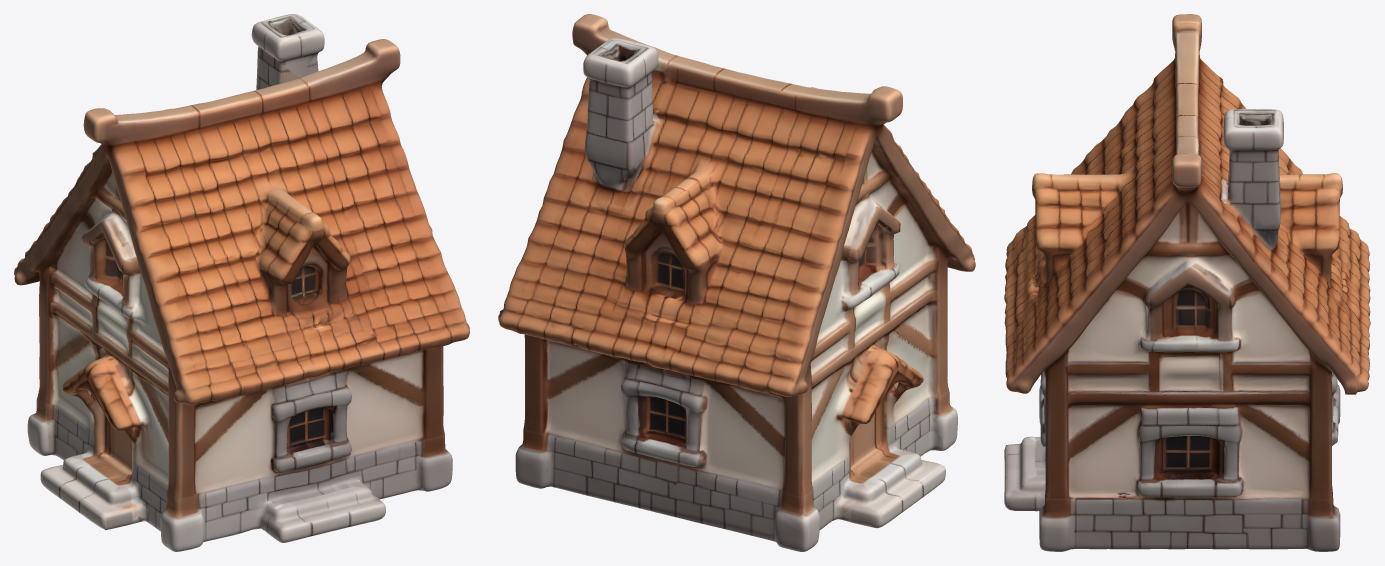
Rendered from base_basic_pbr.fbx.
3 renders of one model, left to right at view 1: azimuth 30°, elevation 25°; view 2: azimuth 150°, elevation 25°; view 3: azimuth 270°, elevation 25°, orthographic. The views are drawn at different scales.
Parts seen in each view (by area): view 1: model; view 2: model; view 3: model.
Part boxes in pixels (x1,y1,x2,y2): model: [14, 14, 469, 551]; model: [498, 14, 975, 551]; model: [1004, 14, 1370, 551].
Bounding box in the file's own units: 162 × 191 × 156.
1 material, 1 textured.
